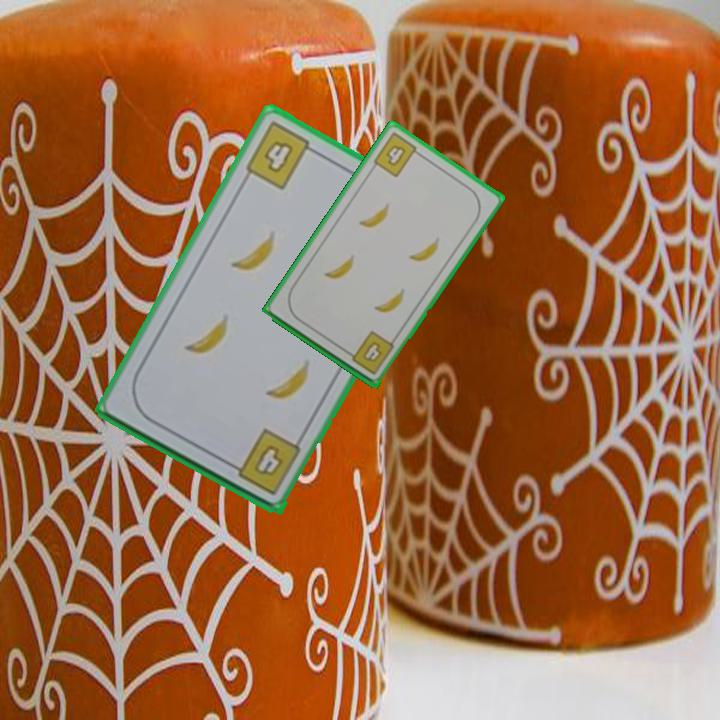4b: (241, 117, 322, 193), (224, 425, 304, 498), (370, 128, 425, 180), (342, 327, 397, 378)
